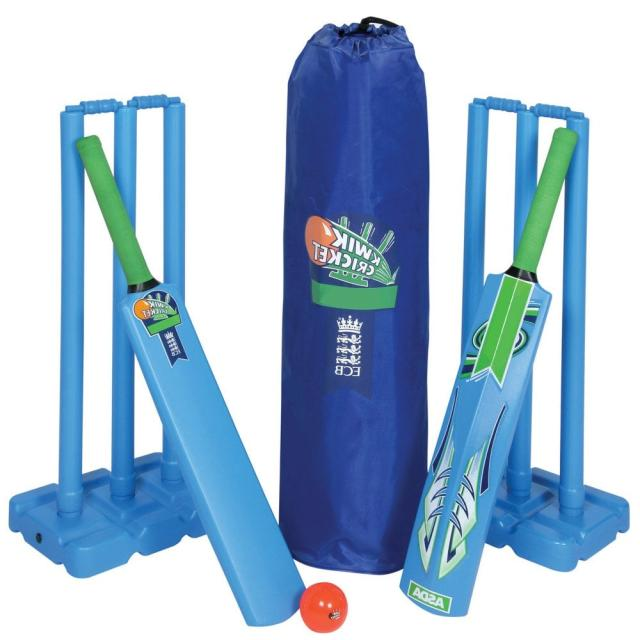stump: (460, 96, 588, 517), (57, 94, 187, 500), (68, 173, 186, 510)
